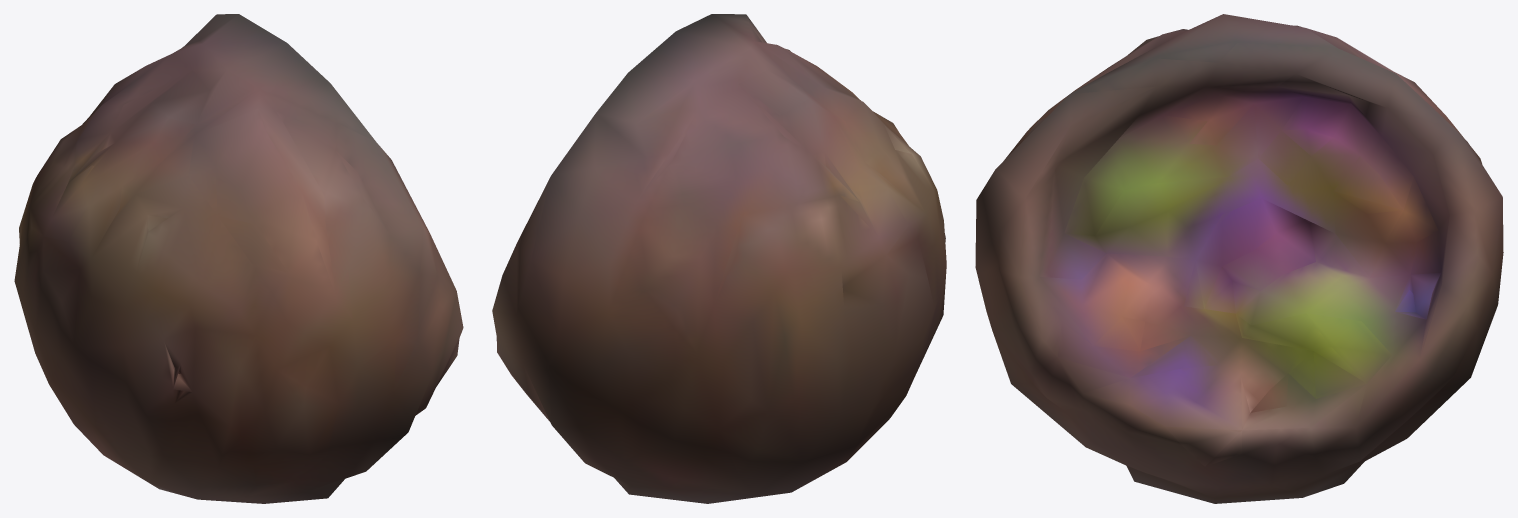
The model's file is dish_spore_ward_stew.glb.
3 renders of one model, left to right at view 1: azimuth 30°, elevation 25°; view 2: azimuth 150°, elevation 25°; view 3: azimuth 270°, elevation 25°, orthographic. The views are drawn at different scales.
Visible parts, largest first — view 1: model; view 2: model; view 3: model.
Part boxes in pixels (<box>): model: <box>14,14,463,503</box>; model: <box>492,14,946,503</box>; model: <box>975,14,1503,503</box>.
Size of the model in its own units: 0.3471 by 0.3792 by 0.3981.
1 material, 1 textured.
